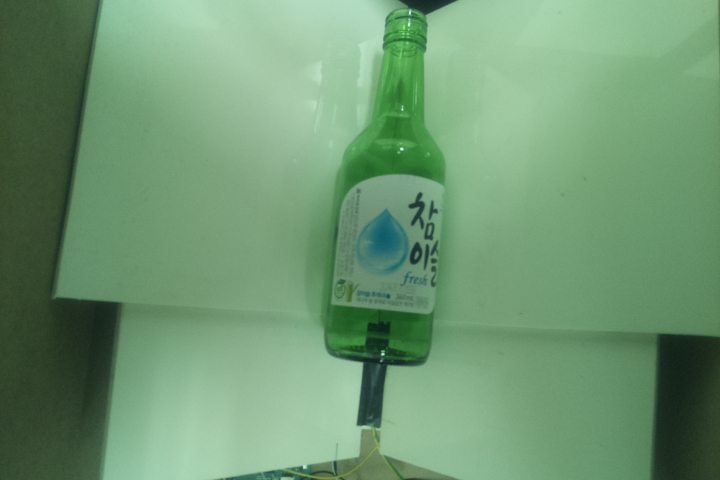soju: (324, 8, 447, 367)
